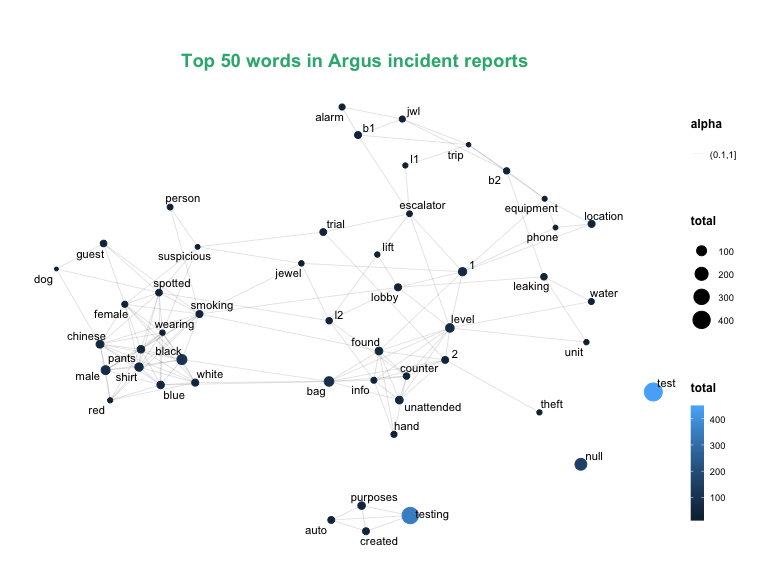

Layout of this report page (visuals, bound fields, positions):
{"tool":"tableau","page":{"name":"Dashboard 1","canvas":[1000,1000],"units":"permille","ordinal":0},"visuals":[{"type":"worksheet","title":"All","mark":"Circle","rows":["lat"],"cols":["lon"],"box":[4.7,8.5,897,983]},{"type":"filter","title":"All","param":"[federated.1927uhd1qy7aqd1f6aa2719t1xgz].[none:lease:nk]","box":[901.7,8.5,93.6,195.1]},{"type":"filter","title":"All","param":"[federated.1927uhd1qy7aqd1f6aa2719t1xgz].[none:Ascendas_Building:nk]","box":[901.7,203.6,93.6,94.4]},{"type":"legend","title":"All","param":"[federated.1927uhd1qy7aqd1f6aa2719t1xgz].[none:Property Type:nk]","box":[901.7,298,93.6,133.6]},{"type":"legend","title":"All","param":"[federated.1927uhd1qy7aqd1f6aa2719t1xgz].[none:psf:qk]","box":[901.7,431.6,93.6,133.6]}]}

Visuals, with their boxes on the dashboard's canvas, which has no fixed pixel size, in thousandths of its width and height (x1, y1, x2, y2). These are canvas units, not pixel positions in the 763x579 screenshot, which may show the page scaled, cropped or inside an application window:
"All" worksheet (Circle marks): {"x1": 5, "y1": 8, "x2": 902, "y2": 992}
"All" filter: {"x1": 902, "y1": 8, "x2": 995, "y2": 204}
"All" filter: {"x1": 902, "y1": 204, "x2": 995, "y2": 298}
"All" legend: {"x1": 902, "y1": 298, "x2": 995, "y2": 432}
"All" legend: {"x1": 902, "y1": 432, "x2": 995, "y2": 565}
